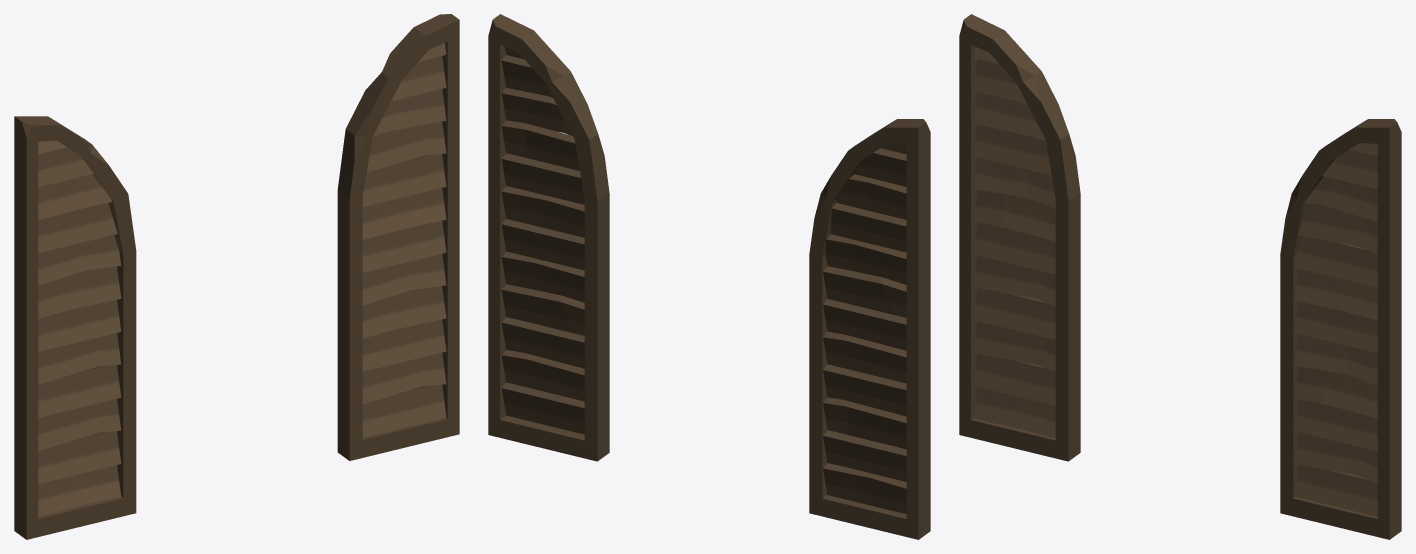
Rendered from SM_Bld_Window_Shutter_Open_01.fbx.
3 renders of one model, left to right at view 1: azimuth 30°, elevation 25°; view 2: azimuth 150°, elevation 25°; view 3: azimuth 330°, elevation 25°, orthographic.
Visible parts, largest first — view 1: SM_Bld_Window_Shutter_Open_01; view 2: SM_Bld_Window_Shutter_Open_01; view 3: SM_Bld_Window_Shutter_Open_01.
Boxes of the visible parts, <box> form: SM_Bld_Window_Shutter_Open_01: <box>14,14,459,539</box>; SM_Bld_Window_Shutter_Open_01: <box>488,14,930,539</box>; SM_Bld_Window_Shutter_Open_01: <box>959,14,1401,539</box>.
Size of the model in its own units: 206 by 189 by 9.98.
1 material, 1 textured.
